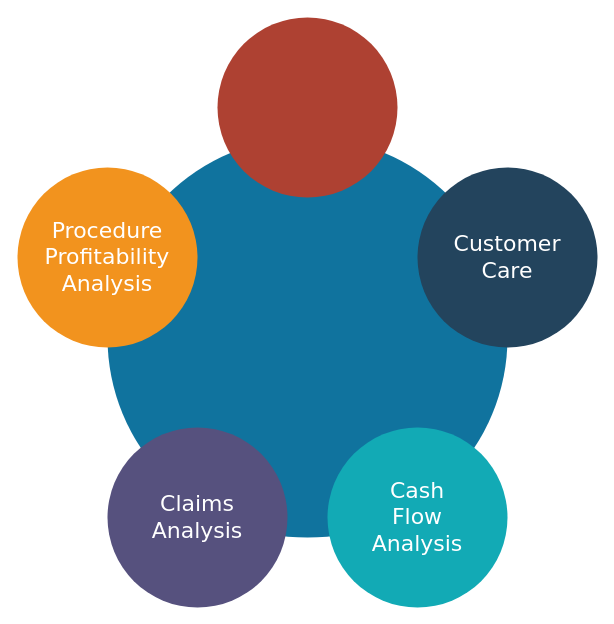
Some shapes in this 614 by 624 pixel diagram are drawn without their labels. The shapes that lost their labels are listed below. From the top down, each one's box as (x1, y1, x2, y2) in pixels, then its label:
(217, 17, 397, 197): Revenue Forecasting
(107, 137, 507, 537): Business
